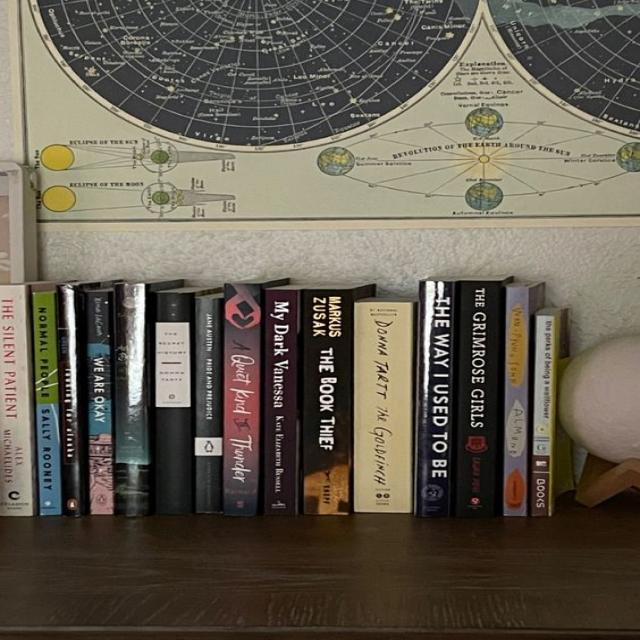book: (353, 302, 413, 512), (455, 281, 499, 517), (305, 290, 350, 514), (150, 293, 192, 515), (114, 283, 150, 516), (417, 281, 452, 514), (224, 283, 258, 516), (264, 289, 298, 516), (0, 285, 32, 517), (32, 293, 62, 516), (58, 284, 86, 517), (504, 288, 530, 517), (196, 296, 222, 514), (88, 292, 113, 514), (532, 315, 553, 517)
